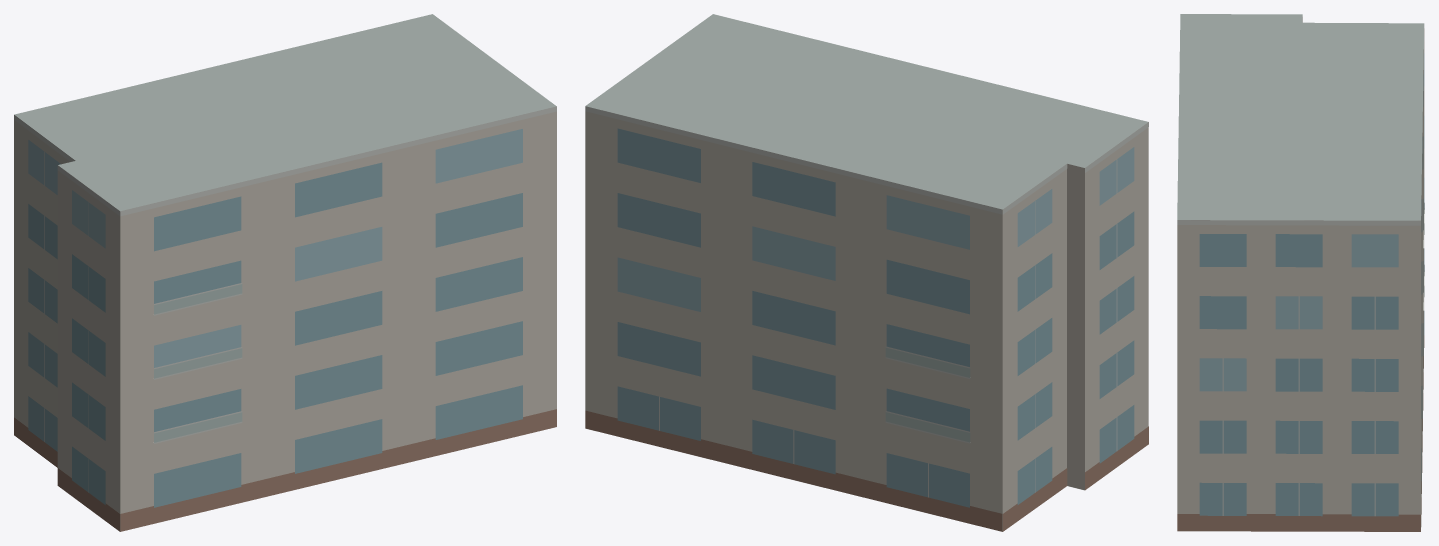
The model's file is survey-upis-32946338.glb.
3 views of the same model, side by side, from view 1: azimuth 30°, elevation 25°; view 2: azimuth 150°, elevation 25°; view 3: azimuth 270°, elevation 25° (orthographic). The views are drawn at different scales.
Visible parts, largest first — view 1: survey-upis-32946338.tmp; view 2: survey-upis-32946338.tmp; view 3: survey-upis-32946338.tmp.
Part boxes in pixels (box(x1,y1,x2,y2)): survey-upis-32946338.tmp: box(14, 14, 556, 531); survey-upis-32946338.tmp: box(585, 14, 1148, 531); survey-upis-32946338.tmp: box(1177, 14, 1424, 531).
Bounding box in the file's own units: 21.74 × 15.25 × 11.01.
